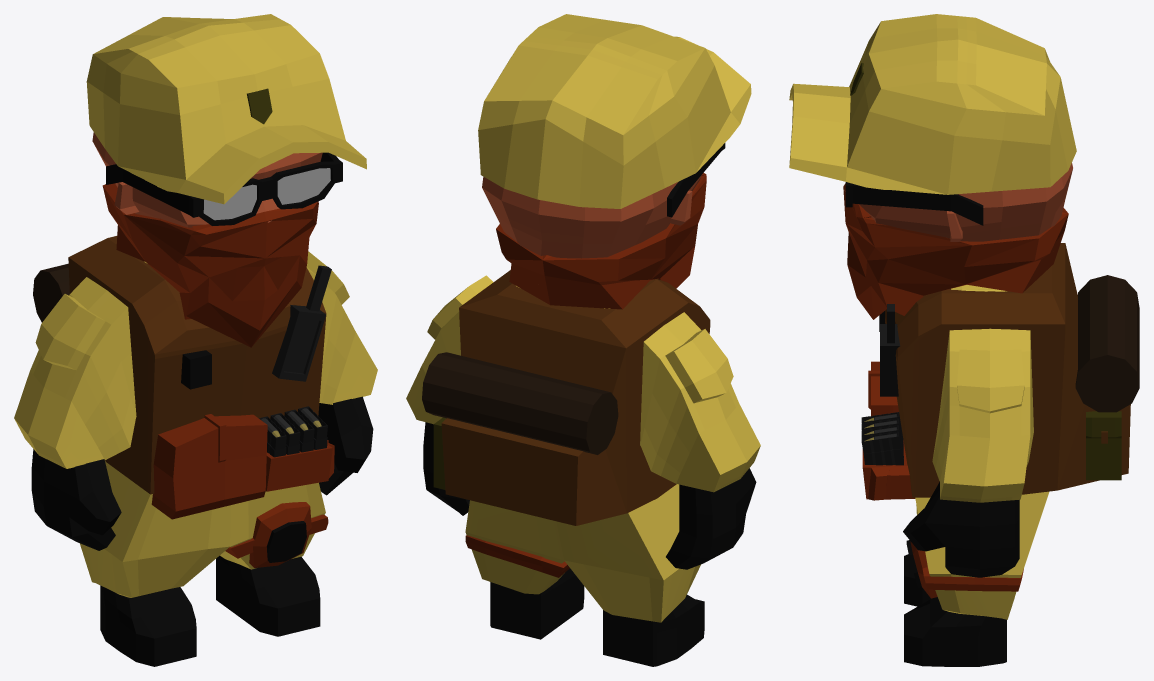
Rendered from player.obj.
The picture shows the model from 3 angles, left to right: view 1: azimuth 30°, elevation 25°; view 2: azimuth 150°, elevation 25°; view 3: azimuth 270°, elevation 25°; orthographic projection. The views are drawn at different scales.
Parts seen in each view (by area): view 1: Cube.073_Cube.090; view 2: Cube.073_Cube.090; view 3: Cube.073_Cube.090.
Part boxes in pixels (bbox=[...]): Cube.073_Cube.090: bbox=[14, 14, 377, 666]; Cube.073_Cube.090: bbox=[406, 14, 760, 666]; Cube.073_Cube.090: bbox=[789, 14, 1139, 666].
Size of the model in its own units: 4.99 by 8.53 by 4.64.
